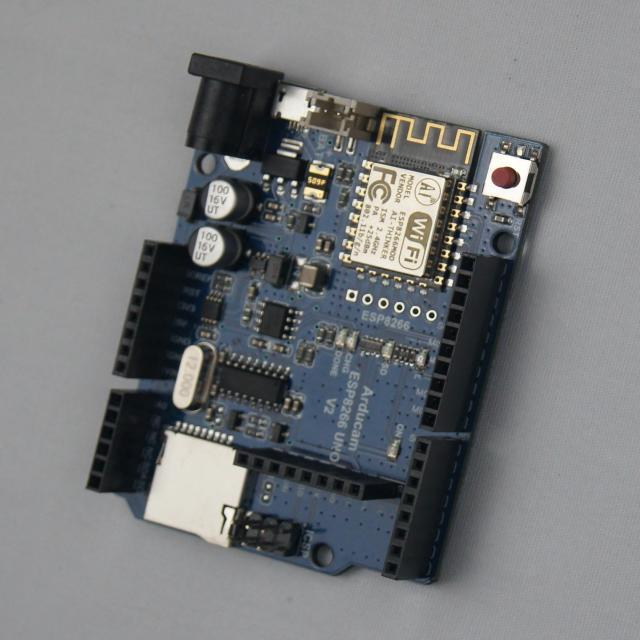Arduino Uno Camera Shield: (88, 54, 546, 583)
